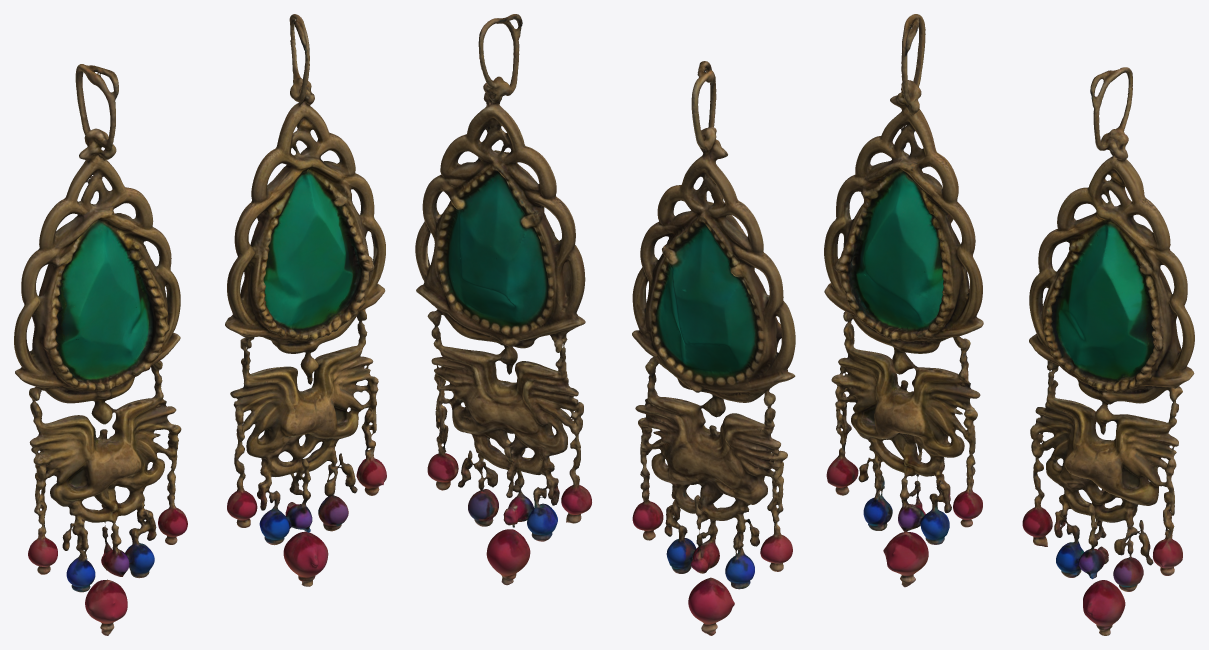
Rendered from Meshy_AI_Emerald_Teardrop_Drag_0414182342_texture.glb.
The picture shows the model from 3 angles, left to right: view 1: azimuth 30°, elevation 25°; view 2: azimuth 150°, elevation 25°; view 3: azimuth 330°, elevation 25°; orthographic projection. The views are drawn at different scales.
Bounding box in the file's own units: 1.38 × 2 × 0.2406.
1 material, 1 textured.
